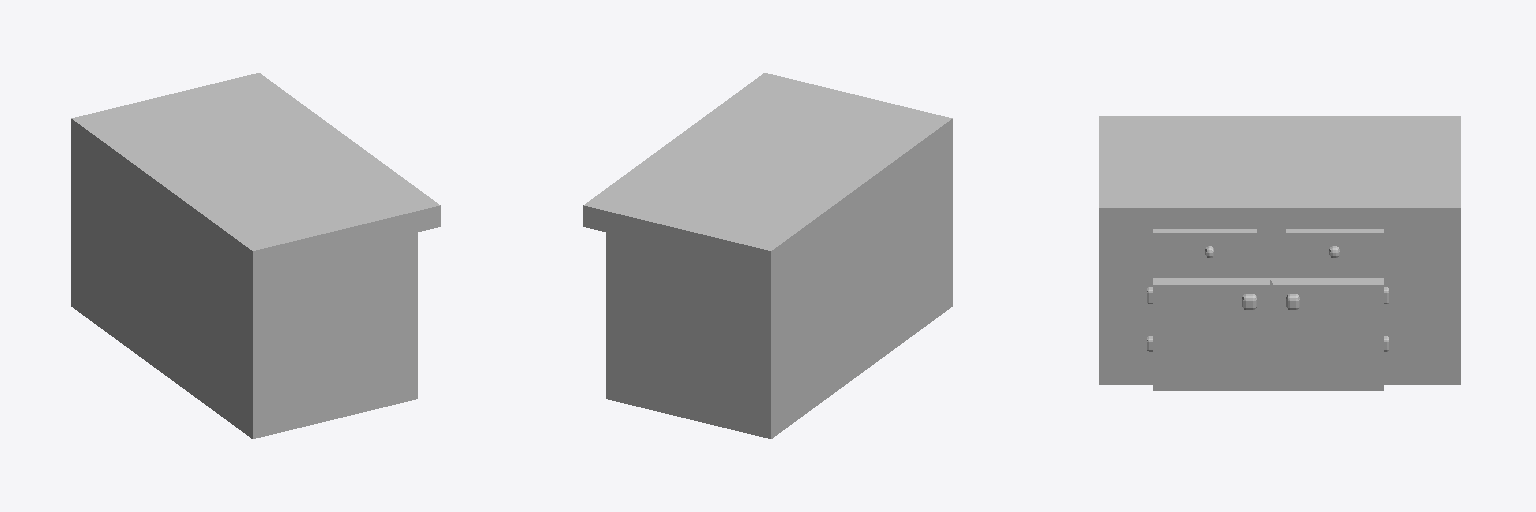
File: alacena.obj
3 renders of one model, left to right at view 1: azimuth 30°, elevation 25°; view 2: azimuth 150°, elevation 25°; view 3: azimuth 270°, elevation 25°, orthographic.
Visible parts, largest first — view 1: polySurface1; view 2: polySurface1; view 3: polySurface1.
Part boxes in pixels (x1,y1,x2,y2): polySurface1: (71,73,440,438); polySurface1: (583,73,952,438); polySurface1: (1099,116,1460,390).
Bounding box in the file's own units: 2.44 × 2.33 × 4.07.